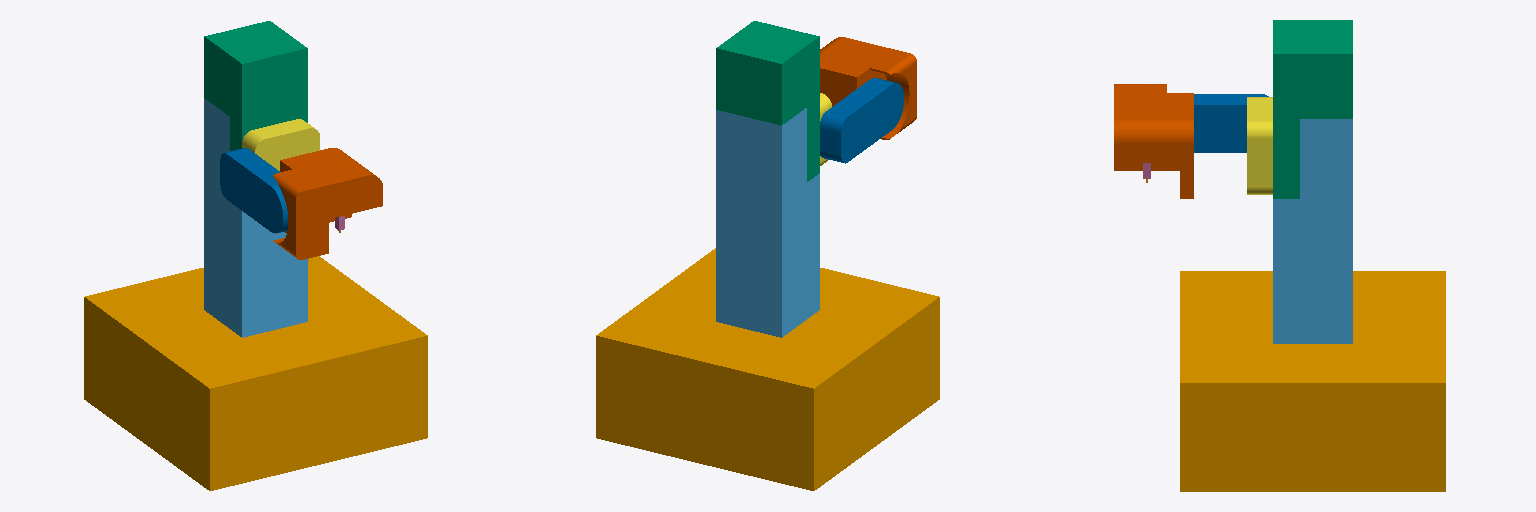
URDF robot description (robot_v1):
<?xml version='1.0' encoding='utf-8'?>
<robot name="robot_v1">
    <link name="00_Base">
        <inertial>
            <origin xyz="0.0 0.225 -8.278422885470921e-17" rpy="0.0 0.0 0.0" />
            <mass value="3532.499999999998" />
            <inertia ixx="353.98593749999986" iyy="588.7499999999992" izz="353.9859374999993" ixy="4.678964614868164e-14" iyz="-1.9008293747901888e-14" ixz="0.0" />
        </inertial>
        <visual name="00_Base_visual">
            <origin xyz="0.0 0.0 0.0" rpy="0.0 0.0 0.0" />
            <geometry>
                <mesh filename="meshes/00_Base.stl" scale="0.001 0.001 0.001" />
            </geometry>
        </visual>
        <collision name="00_Base_collision">
            <origin xyz="0.0 0.0 0.0" rpy="0.0 0.0 0.0" />
            <geometry>
                <mesh filename="meshes/00_Base.stl" scale="0.001 0.001 0.001" />
            </geometry>
        </collision>
    </link>
    <link name="01_Column">
        <inertial>
            <origin xyz="0.0 0.8747560975609757 -0.013414634146341484" rpy="0.0 0.0 0.0" />
            <mass value="579.3299999999997" />
            <inertia ixx="42.70031145731707" iyy="8.3266481707317" izz="43.06361328658534" ixy="-5.848705768585205e-15" iyz="2.644205487804875" ixz="0.0" />
        </inertial>
        <visual name="01_Column_visual">
            <origin xyz="0.0 0.0 0.0" rpy="0.0 0.0 0.0" />
            <geometry>
                <mesh filename="meshes/01_Column.stl" scale="0.001 0.001 0.001" />
            </geometry>
        </visual>
        <collision name="01_Column_collision">
            <origin xyz="0.0 0.0 0.0" rpy="0.0 0.0 0.0" />
            <geometry>
                <mesh filename="meshes/01_Column.stl" scale="0.001 0.001 0.001" />
            </geometry>
        </collision>
    </link>
    <link name="02_Carriage">
        <inertial>
            <origin xyz="6.217248937900877e-17 0.21315789473684305 -0.021052631578947184" rpy="0.0 -0.0 0.0" />
            <mass value="268.46999999999997" />
            <inertia ixx="8.881380513164572" iyy="4.061135526315686" izz="8.847294986848738" ixy="2.965878964644732e-14" iyz="1.6565565789474483" ixz="2.012825905950422e-14" />
        </inertial>
        <visual name="02_Carriage_visual">
            <origin xyz="-0.07817994853729766 -1.2252070638629566 0.1606351003074084" rpy="-9.020562075079398e-17 1.5612511283791276e-17 8.881784197001229e-16" />
            <geometry>
                <mesh filename="meshes/02_Carriage.stl" scale="0.001 0.001 0.001" />
            </geometry>
        </visual>
        <collision name="02_Carriage_collision">
            <origin xyz="-0.07817994853729766 -1.2252070638629566 0.1606351003074084" rpy="-9.020562075079398e-17 1.5612511283791276e-17 8.881784197001229e-16" />
            <geometry>
                <mesh filename="meshes/02_Carriage.stl" scale="0.001 0.001 0.001" />
            </geometry>
        </collision>
    </link>
    <link name="03_Arm">
        <inertial>
            <origin xyz="1.9876501837780306e-16 9.947598300641404e-16 0.050000000000001064" rpy="0.0 -0.0 0.0" />
            <mass value="68.96537558267042" />
            <inertia ixx="0.5547282618847191" iyy="0.5547282618847706" izz="0.9945142311317028" ixy="-5.483161658048473e-16" iyz="7.105427357601002e-15" ixz="-1.827720552682727e-16" />
        </inertial>
        <visual name="03_Arm_visual">
            <origin xyz="6.0257562681238383e-33 -1.2 -0.15" rpy="-1.232595164407831e-32 -4.307521730114546e-65 -3.494676804272541e-33" />
            <geometry>
                <mesh filename="meshes/03_Arm.stl" scale="0.001 0.001 0.001" />
            </geometry>
        </visual>
        <collision name="03_Arm_collision">
            <origin xyz="6.0257562681238383e-33 -1.2 -0.15" rpy="-1.232595164407831e-32 -4.307521730114546e-65 -3.494676804272541e-33" />
            <geometry>
                <mesh filename="meshes/03_Arm.stl" scale="0.001 0.001 0.001" />
            </geometry>
        </collision>
    </link>
    <link name="04_Wrist_A">
        <inertial>
            <origin xyz="0.1923826207045586 5.684341886080802e-16 0.05000000000000096" rpy="0.0 -0.0 0.0" />
            <mass value="74.28843895667511" />
            <inertia ixx="0.29534647639182765" iyy="1.4690786226877641" izz="1.640611034151803" ixy="0.0" iyz="-3.552713678800501e-15" ixz="-8.881784197001252e-16" />
        </inertial>
        <visual name="04_Wrist_A_visual">
            <origin xyz="-0.2 -1.2 -0.15" rpy="-0.0 1.5707963267948966 0" />
            <geometry>
                <mesh filename="meshes/04_Wrist_A.stl" scale="0.001 0.001 0.001" />
            </geometry>
        </visual>
        <collision name="04_Wrist_A_collision">
            <origin xyz="-0.2 -1.2 -0.15" rpy="-0.0 1.5707963267948966 0" />
            <geometry>
                <mesh filename="meshes/04_Wrist_A.stl" scale="0.001 0.001 0.001" />
            </geometry>
        </collision>
    </link>
    <link name="05_Wrist_B">
        <inertial>
            <origin xyz="0.05153101287173129 0.0328558850866662 -0.10854177760951605" rpy="0.0 -0.0 0.0" />
            <mass value="157.8649275416106" />
            <inertia ixx="2.772417954245441" iyy="3.1071728359152075" izz="2.417479086696403" ixy="-0.13004723605972401" iyz="0.30856616383301816" ixz="-0.45092742200506875" />
        </inertial>
        <visual name="05_Wrist_B_visual">
            <origin xyz="-0.55 -1.2 -0.15" rpy="-0.0 1.5707963267948966 0" />
            <geometry>
                <mesh filename="meshes/05_Wrist_B.stl" scale="0.001 0.001 0.001" />
            </geometry>
        </visual>
        <collision name="05_Wrist_B_collision">
            <origin xyz="-0.55 -1.2 -0.15" rpy="-0.0 1.5707963267948966 0" />
            <geometry>
                <mesh filename="meshes/05_Wrist_B.stl" scale="0.001 0.001 0.001" />
            </geometry>
        </collision>
    </link>
    <link name="06_Head">
        <inertial>
            <origin xyz="0.0 7.105427357601002e-17 0.059092583845064016" rpy="0.0 -0.0 0.0" />
            <mass value="0.8309225000000003" />
            <inertia ixx="0.001041310521483707" iyy="0.001041310521483707" izz="0.0001260693645832034" ixy="5.204170427930421e-18" iyz="0.0" ixz="6.938893903907228e-18" />
        </inertial>
        <visual name="06_Head_visual">
            <origin xyz="-0.025 -0.625 1.199" rpy="-1.5707963267948966 -0.0 0.0" />
            <geometry>
                <mesh filename="meshes/06_Head.stl" scale="0.001 0.001 0.001" />
            </geometry>
        </visual>
        <collision name="06_Head_collision">
            <origin xyz="-0.025 -0.625 1.199" rpy="-1.5707963267948966 -0.0 0.0" />
            <geometry>
                <mesh filename="meshes/06_Head.stl" scale="0.001 0.001 0.001" />
            </geometry>
        </collision>
    </link>
    <link name="06_StageX">
        <inertial>
            <origin xyz="0.0 7.105427357601002e-17 0.0004999999999998295" rpy="0.0 -0.0 0.0" />
            <mass value="0.007064999999999598" />
            <inertia ixx="5.304637499970594e-07" iyy="5.304637499987941e-07" izz="1.0597499999990406e-06" ixy="1.3552527156068805e-20" iyz="-8.673617379884035e-19" ixz="-8.131516293641283e-20" />
        </inertial>
        <visual name="06_StageX_visual">
            <origin xyz="-0.025 -0.625 1.2" rpy="-1.5707963267948966 -0.0 0.0" />
            <geometry>
                <mesh filename="meshes/06_StageX.stl" scale="0.001 0.001 0.001" />
            </geometry>
        </visual>
        <collision name="06_StageX_collision">
            <origin xyz="-0.025 -0.625 1.2" rpy="-1.5707963267948966 -0.0 0.0" />
            <geometry>
                <mesh filename="meshes/06_StageX.stl" scale="0.001 0.001 0.001" />
            </geometry>
        </collision>
    </link>
    <link name="07_Needle">
        <inertial>
            <origin xyz="0.0 -0.010128205128205251 0.002499999999999929" rpy="0.0 -0.0 0.0" />
            <mass value="0.013776749999999996" />
            <inertia ixx="5.7186629170771774e-06" iyy="5.724121875366056e-08" izz="5.7186629170702385e-06" ixy="-5.421010862427522e-20" iyz="-1.734723475976807e-18" ixz="-2.710505431213761e-20" />
        </inertial>
        <visual name="07_Needle_visual">
            <origin xyz="-0.025 -1.105 -0.6225" rpy="0.0 -0.0 0.0" />
            <geometry>
                <mesh filename="meshes/07_Needle.stl" scale="0.001 0.001 0.001" />
            </geometry>
        </visual>
        <collision name="07_Needle_collision">
            <origin xyz="-0.025 -1.105 -0.6225" rpy="0.0 -0.0 0.0" />
            <geometry>
                <mesh filename="meshes/07_Needle.stl" scale="0.001 0.001 0.001" />
            </geometry>
        </collision>
    </link>
    <joint name="lift_y" type="prismatic">
        <origin xyz="0.0 1.215 0.05" rpy="0.0 -0.0 0.0" />
        <parent link="01_Column" />
        <child link="02_Carriage" />
        <axis xyz="0.0 1.0 0.0" />
        <limit lower="0.0" upper="0.25" effort="1000000" velocity="1000000" />
    </joint>
    <joint name="arm_roll_z" type="revolute">
        <origin xyz="0.0 -0.015 0.1" rpy="1.232595164407831e-32 -0.0 3.494676804272541e-33" />
        <parent link="02_Carriage" />
        <child link="03_Arm" />
        <axis xyz="0.0 1.232595164407831e-32 1.0" />
        <limit lower="-0.785398" upper="0.785398" effort="1000000" velocity="1000000" />
    </joint>
    <joint name="head_rot" type="revolute">
        <origin xyz="0.35000000000000003 0.0 0.0" rpy="0.0 -0.0 0.0" />
        <parent link="04_Wrist_A" />
        <child link="05_Wrist_B" />
        <axis xyz="0.0 0.0 1.0" />
        <limit lower="-0.523599" upper="0.523599" effort="1000000" velocity="1000000" />
    </joint>
    <joint name="wrist_pitch_x" type="revolute">
        <origin xyz="-0.15 0.0 0.05" rpy="-3.494676804272541e-33 -1.5707963267948966 0" />
        <parent link="03_Arm" />
        <child link="04_Wrist_A" />
        <axis xyz="0.0 0.0 1.0" />
        <limit lower="-0.523599" upper="0.523599" effort="1000000" velocity="1000000" />
    </joint>
    <joint name="stage_z" type="prismatic">
        <origin xyz="0.0 0.0 0.0009999999999999432" rpy="0.0 -0.0 0.0" />
        <parent link="06_StageX" />
        <child link="06_Head" />
        <axis xyz="1.0 0.0 0.0" />
        <limit lower="-0.0125" upper="0.0125" effort="1000000" velocity="1000000" />
    </joint>
    <joint name="stage_x" type="prismatic">
        <origin xyz="0.075 0.0 -0.17500000000000002" rpy="1.5707963267948966 1.5707963267948966 0" />
        <parent link="05_Wrist_B" />
        <child link="06_StageX" />
        <axis xyz="0.0 1.0 0.0" />
        <limit lower="-0.0125" upper="0.0125" effort="1000000" velocity="1000000" />
    </joint>
    <joint name="twinz_insert" type="prismatic">
        <origin xyz="0.0 -0.0025 0.09400000000000006" rpy="-1.5707963267948966 -0.0 0.0" />
        <parent link="06_Head" />
        <child link="07_Needle" />
        <axis xyz="0.0 1.0 0.0" />
        <limit lower="-0.025" upper="0.0" effort="1000000" velocity="1000000" />
    </joint>
    <link name="world" />
    <joint name="world_to_base" type="fixed">
        <origin xyz="0 0 0" rpy="1.5707963267948966 0 0" />
        <parent link="world" />
        <child link="00_Base" />
    </joint>
    <joint name="base_fixed" type="fixed">
        <origin xyz="0 0 0" rpy="0 0 0" />
        <parent link="00_Base" />
        <child link="01_Column" />
    </joint>
</robot>

--- Render facts (derived) ---
3 views of the same robot in one strip: view 1: azimuth 30°, elevation 25°; view 2: azimuth 150°, elevation 25°; view 3: azimuth 270°, elevation 25° (orthographic).
Model robot_v1 with 10 links and 9 joints (3 revolute, 4 prismatic, 2 fixed), rooted at world, posed all joints at 0.
Visible links, largest first — view 1: 00_Base, 01_Column, 02_Carriage, 05_Wrist_B, 04_Wrist_A, 03_Arm; view 2: 00_Base, 01_Column, 02_Carriage, 05_Wrist_B, 04_Wrist_A; view 3: 00_Base, 01_Column, 02_Carriage, 05_Wrist_B, 04_Wrist_A, 03_Arm.
Boxes of the visible links, x1=… form: 00_Base: x1=84, y1=256, x2=427, y2=490; 01_Column: x1=204, y1=98, x2=307, y2=337; 02_Carriage: x1=204, y1=21, x2=307, y2=150; 05_Wrist_B: x1=273, y1=148, x2=382, y2=259; 04_Wrist_A: x1=220, y1=148, x2=287, y2=233; 03_Arm: x1=242, y1=119, x2=319, y2=170; 00_Base: x1=596, y1=248, x2=939, y2=490; 01_Column: x1=716, y1=108, x2=819, y2=337; 02_Carriage: x1=716, y1=21, x2=819, y2=181; 05_Wrist_B: x1=820, y1=37, x2=916, y2=139; 04_Wrist_A: x1=820, y1=78, x2=903, y2=163; 00_Base: x1=1180, y1=271, x2=1445, y2=491; 01_Column: x1=1273, y1=119, x2=1352, y2=343; 02_Carriage: x1=1273, y1=20, x2=1352, y2=198; 05_Wrist_B: x1=1114, y1=84, x2=1193, y2=198; 04_Wrist_A: x1=1194, y1=94, x2=1268, y2=152; 03_Arm: x1=1247, y1=97, x2=1272, y2=194.
Size in the robot's own frame: 1 by 1.25 by 1.65 metres.
Meshes: 9 distinct files referenced, 9 mesh visuals loaded (9 binary STL).
